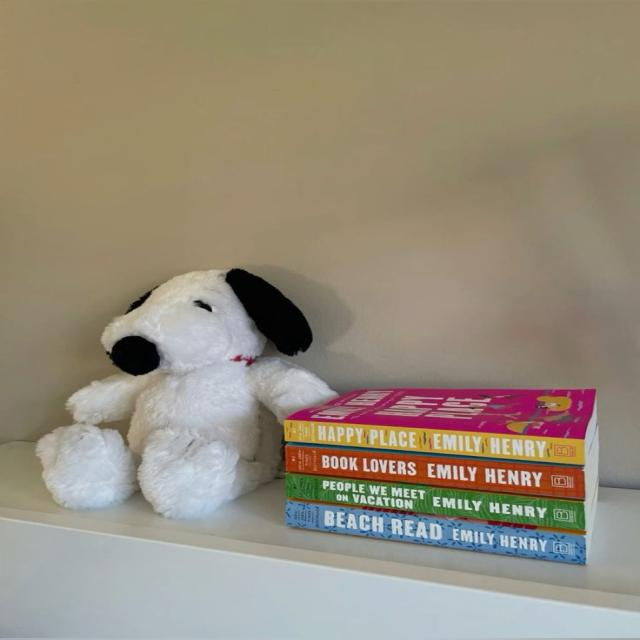book: (285, 501, 586, 564), (285, 474, 584, 532), (287, 446, 583, 501), (287, 420, 584, 463)
